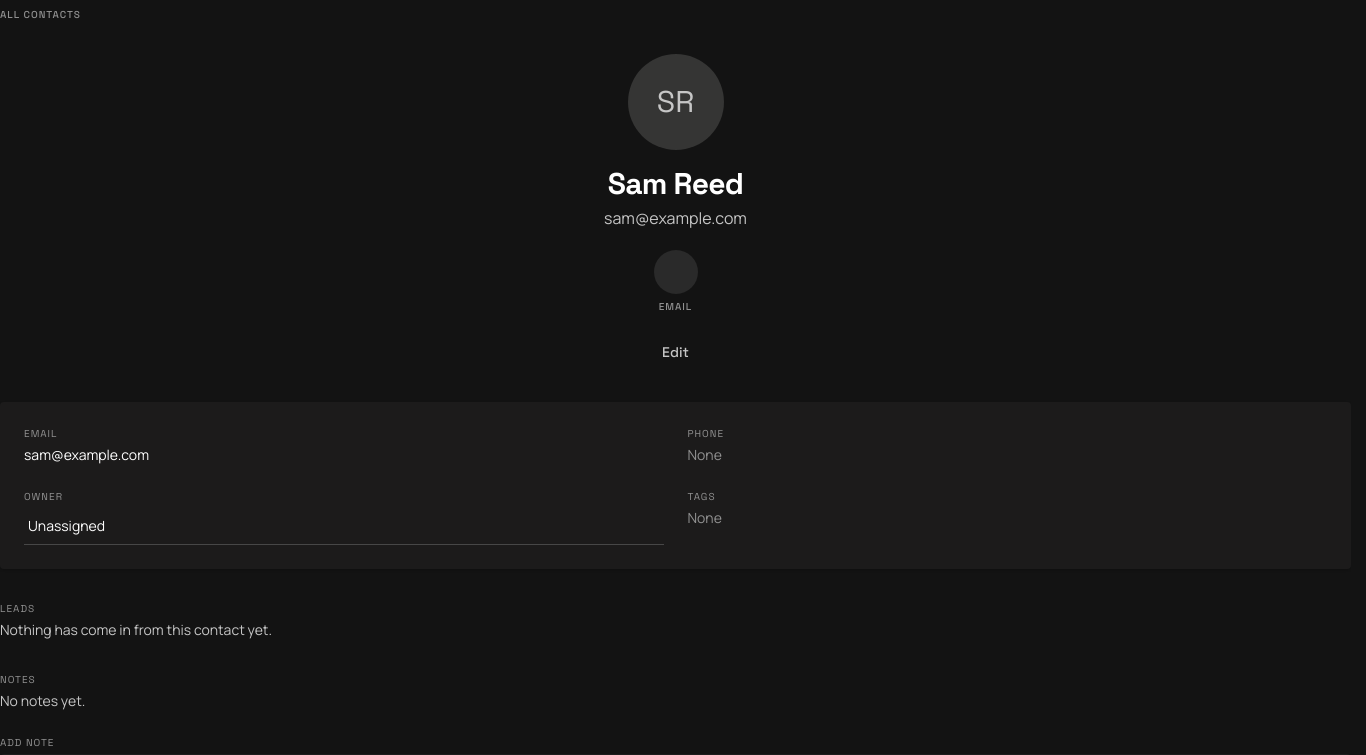
ContactDetail › closes the composer when the same action is pressed again
Click the button "Email".
click(676, 282)  # box [650, 246, 702, 318]
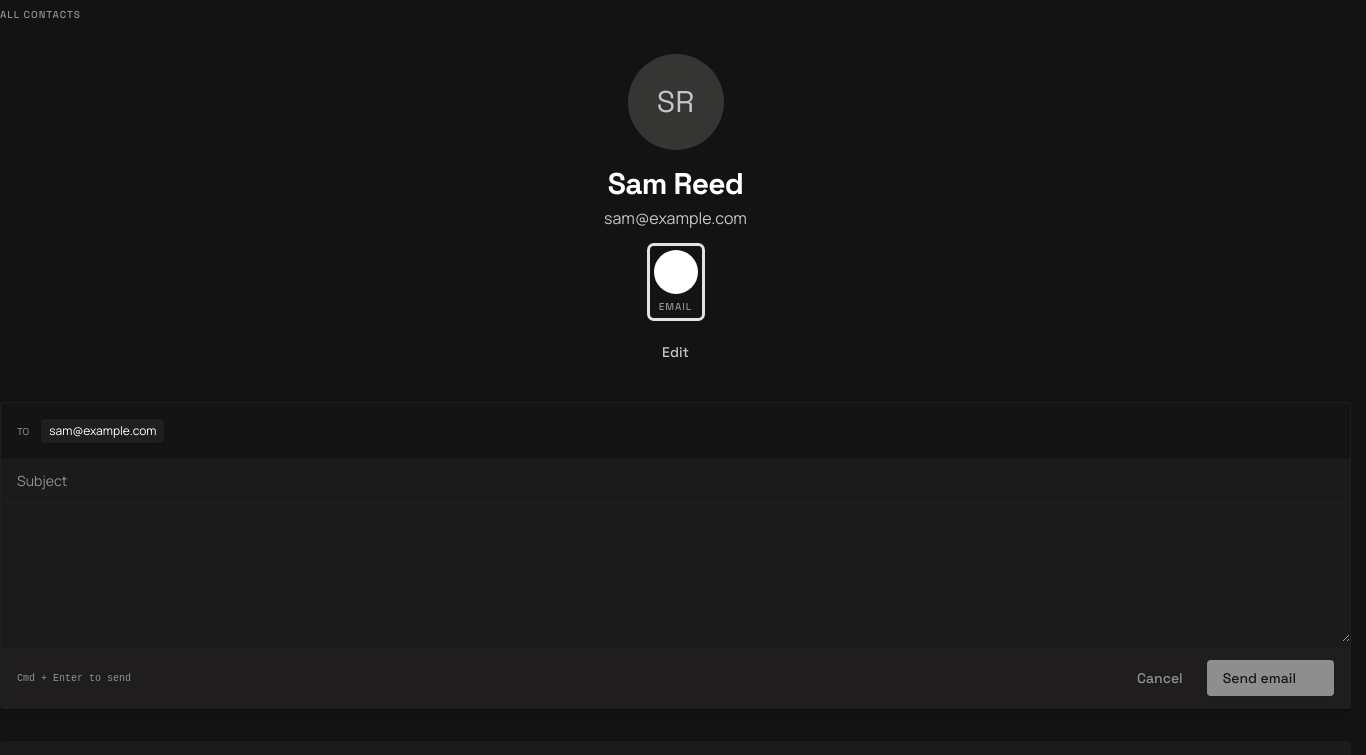
Click the button "Email".
click(676, 282)  # box [650, 246, 702, 318]
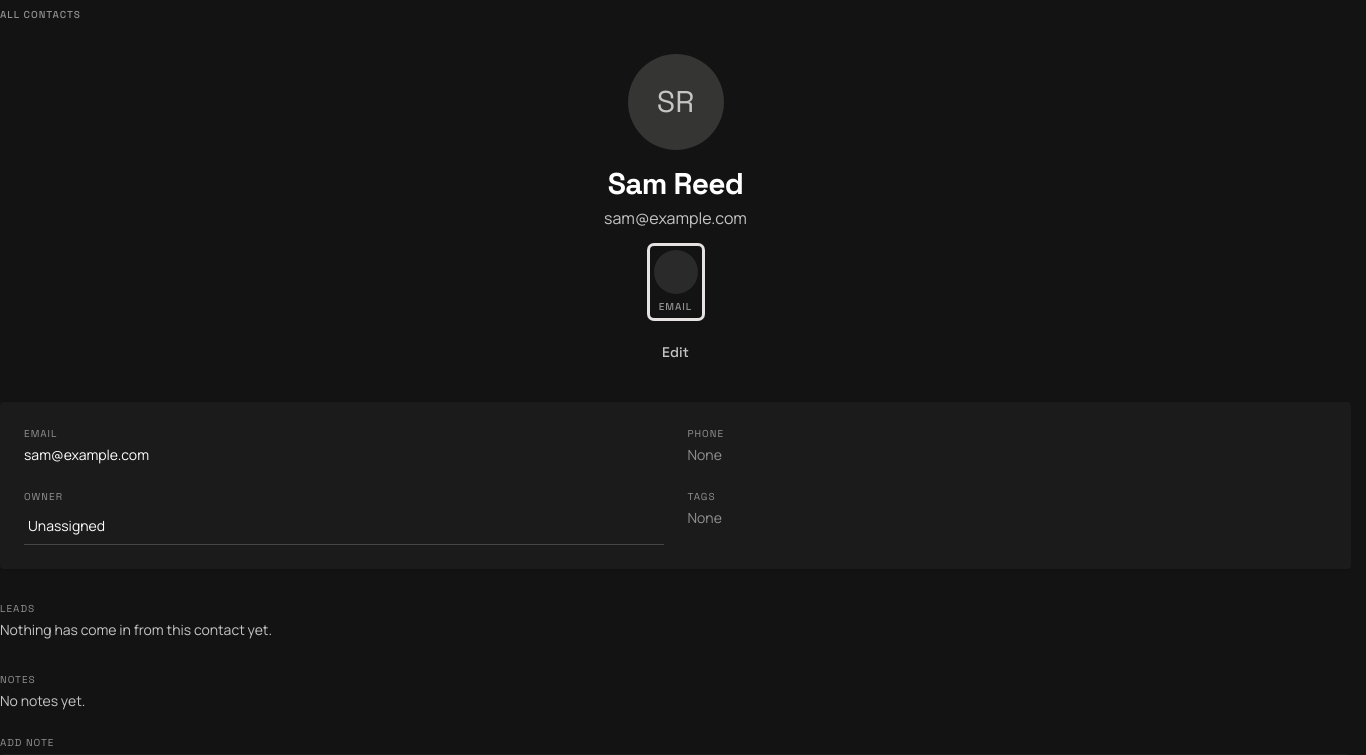
Check: the text box labelled "Message" is gone
